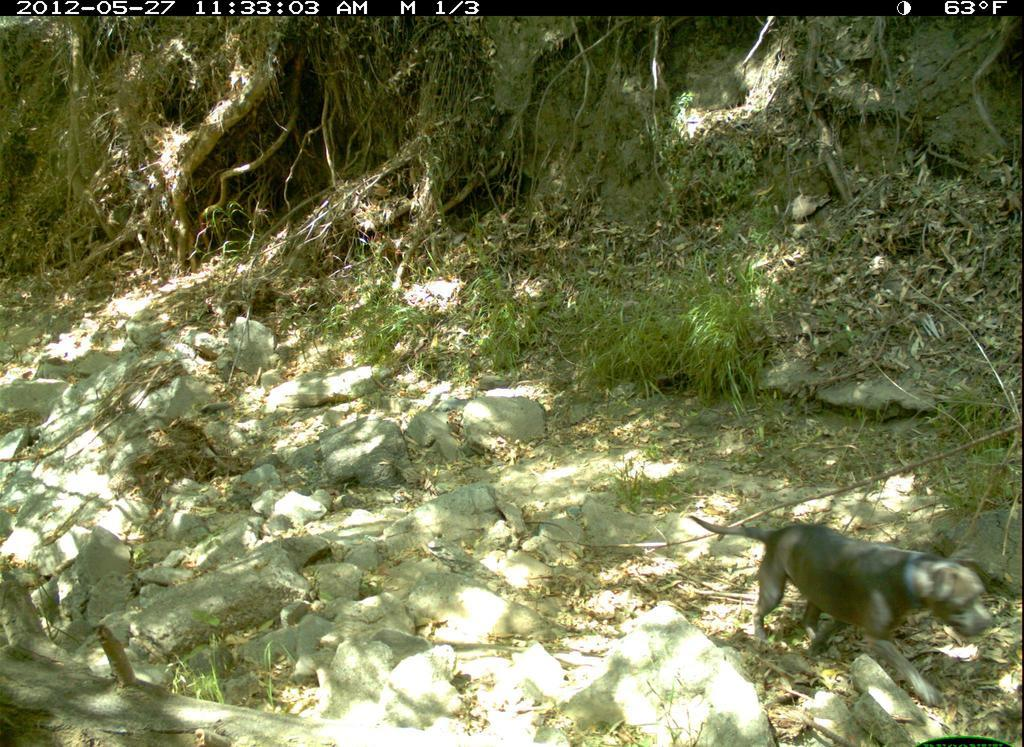dog: (677, 500, 1001, 720)
